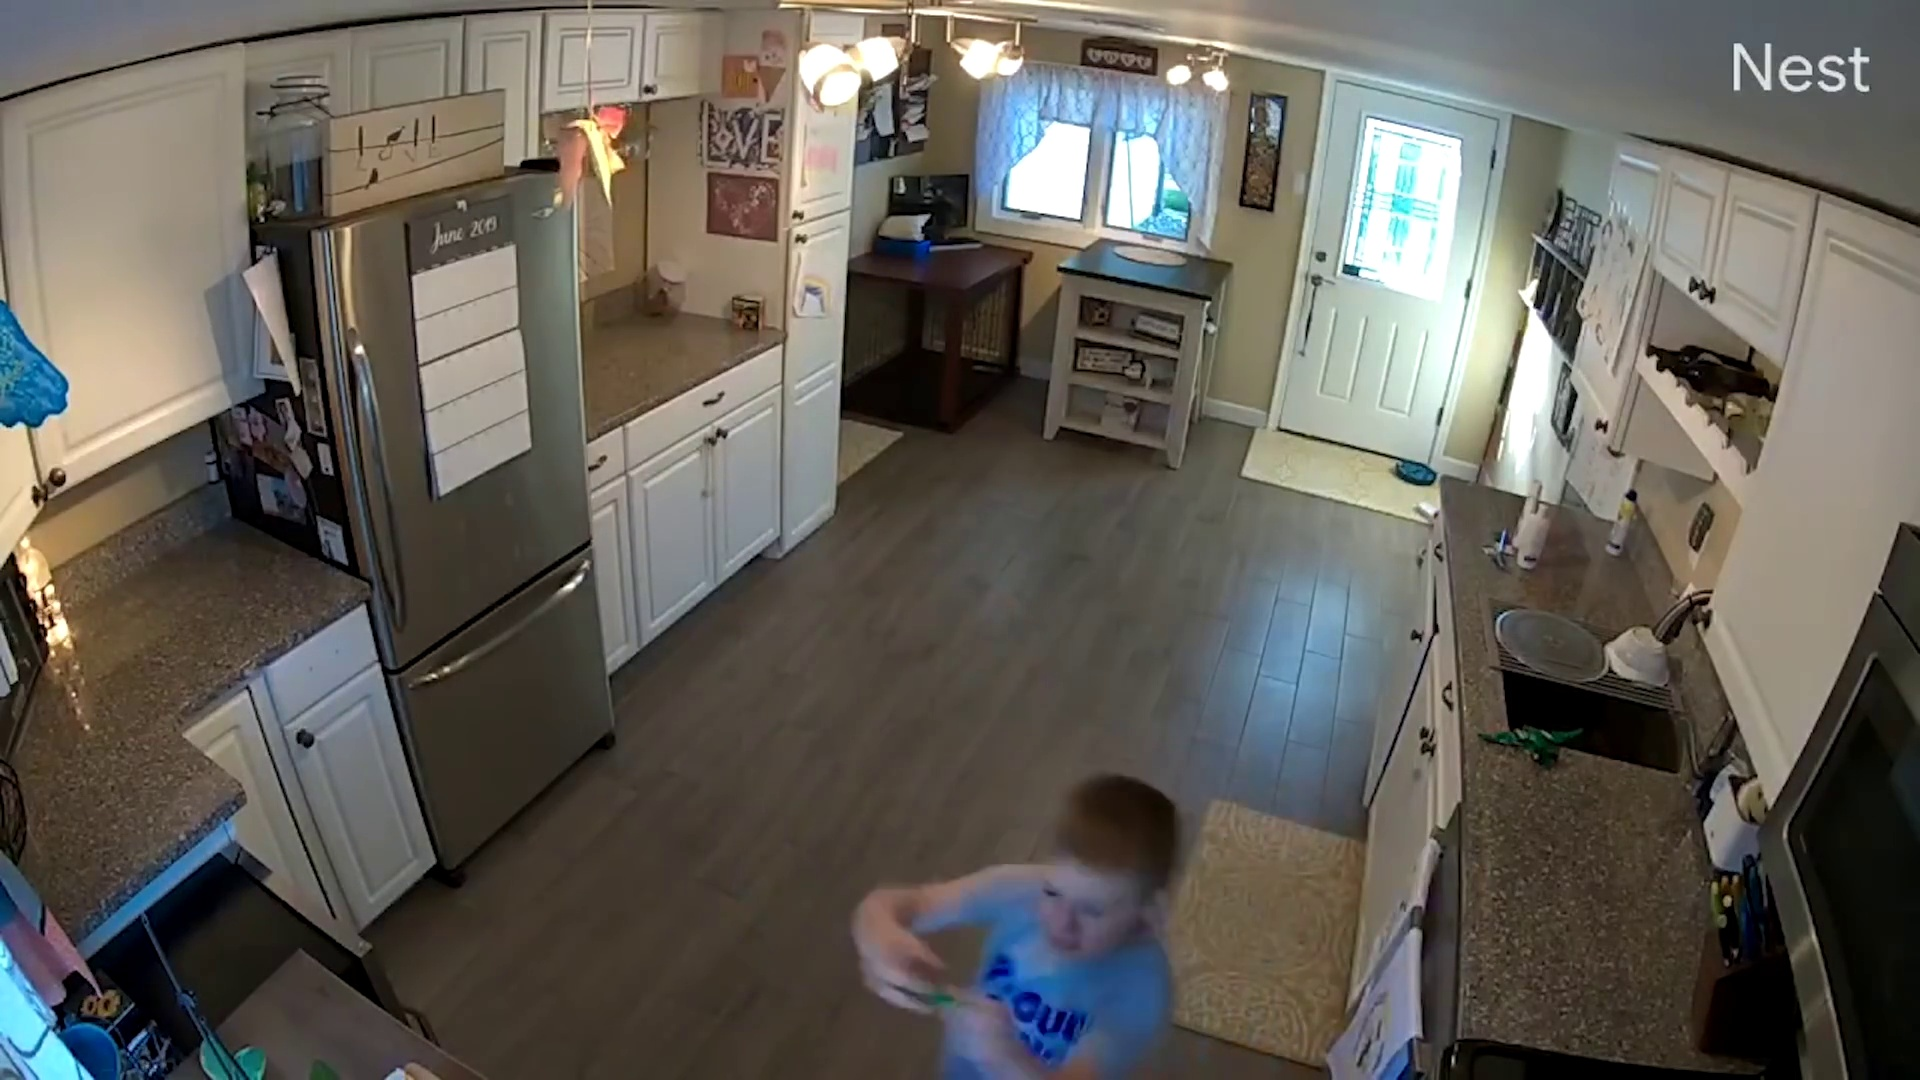face: (1028, 854, 1131, 958)
